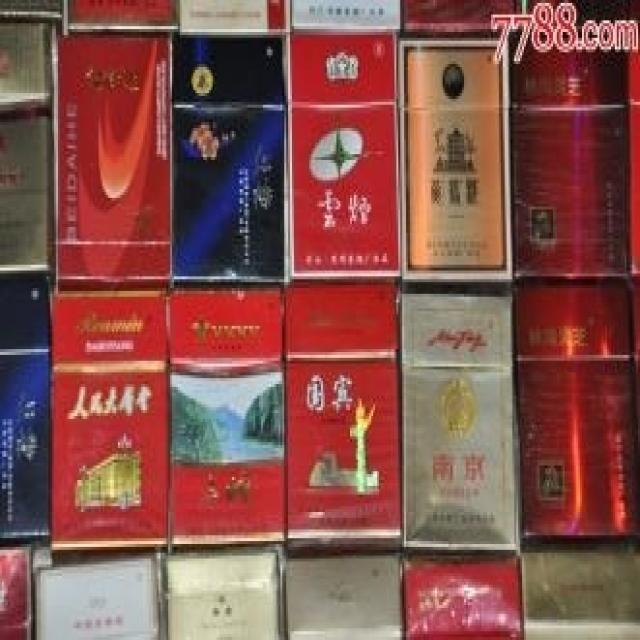box: (50, 285, 168, 570), (514, 279, 640, 541), (507, 23, 632, 285), (284, 276, 402, 550), (400, 294, 522, 556), (168, 285, 286, 553), (50, 32, 172, 291), (170, 32, 292, 288), (398, 29, 512, 294), (288, 29, 400, 282), (0, 271, 52, 547), (0, 20, 52, 273), (520, 541, 640, 640), (157, 547, 282, 640), (280, 550, 404, 640), (400, 550, 524, 640), (33, 553, 159, 640), (402, 0, 568, 38), (62, 0, 180, 32), (626, 23, 640, 279), (292, 0, 404, 32), (178, 0, 290, 32), (0, 544, 31, 640), (632, 279, 640, 541)
